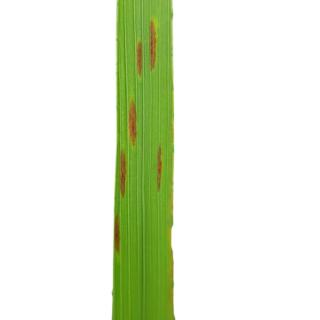Bercak-Cokelat-Sempit: (131, 20, 161, 78), (112, 148, 136, 204), (124, 94, 144, 148), (148, 143, 167, 193), (110, 208, 124, 250)
